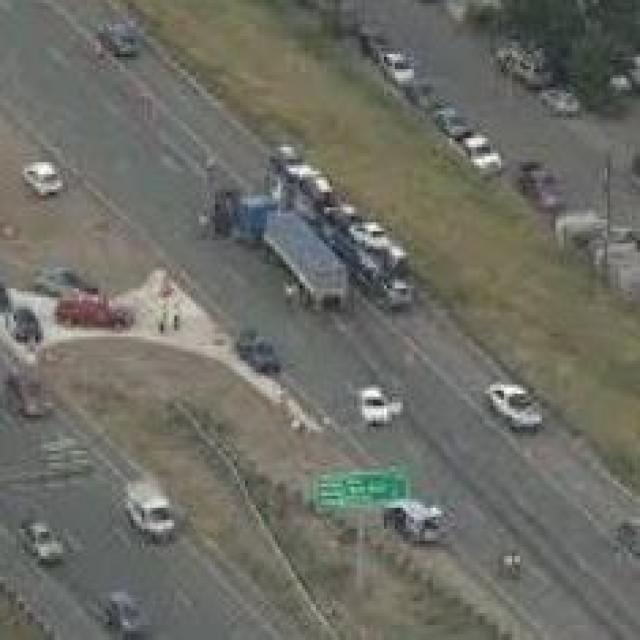traffic_incident: (224, 129, 412, 319)
